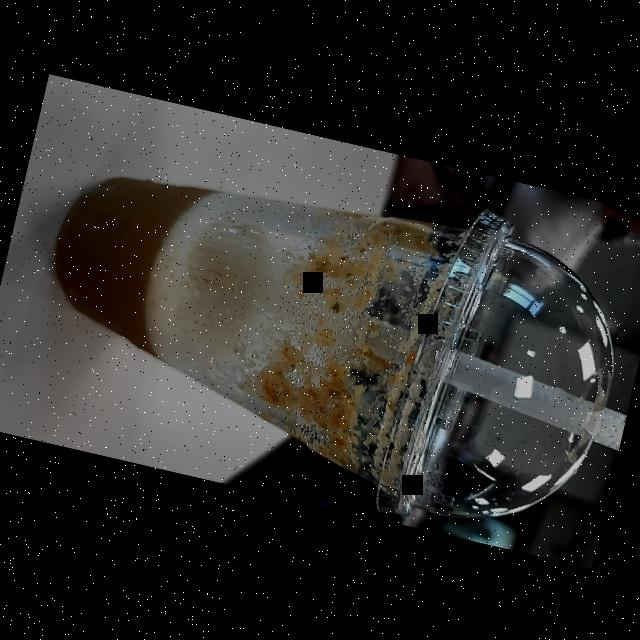plastic_cup: (7, 111, 640, 563)
plastic_cup_lid: (360, 196, 640, 563)
straw: (349, 311, 628, 452)
